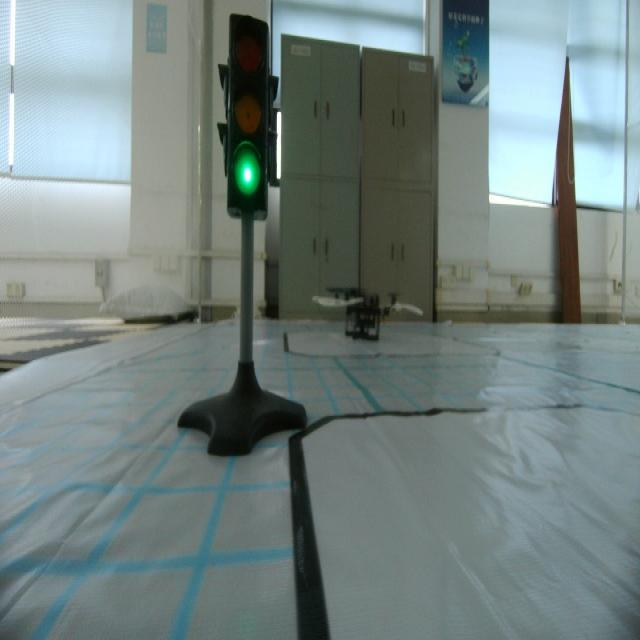green: (222, 14, 274, 220)
